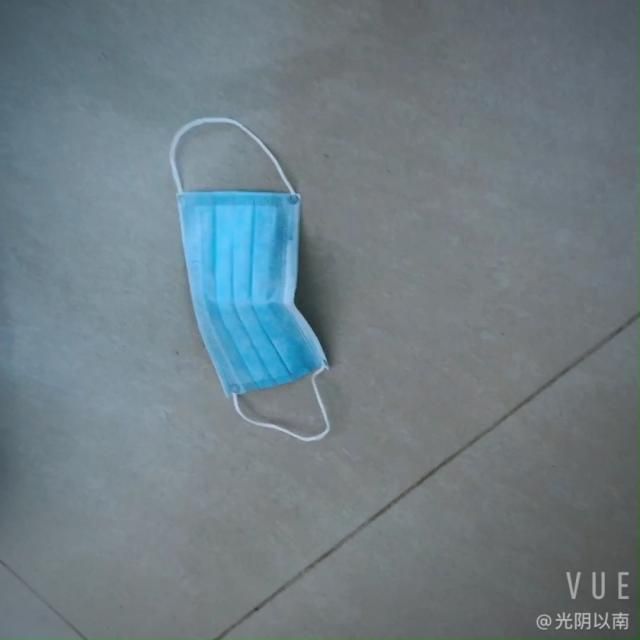face mask: (168, 178, 346, 460)
